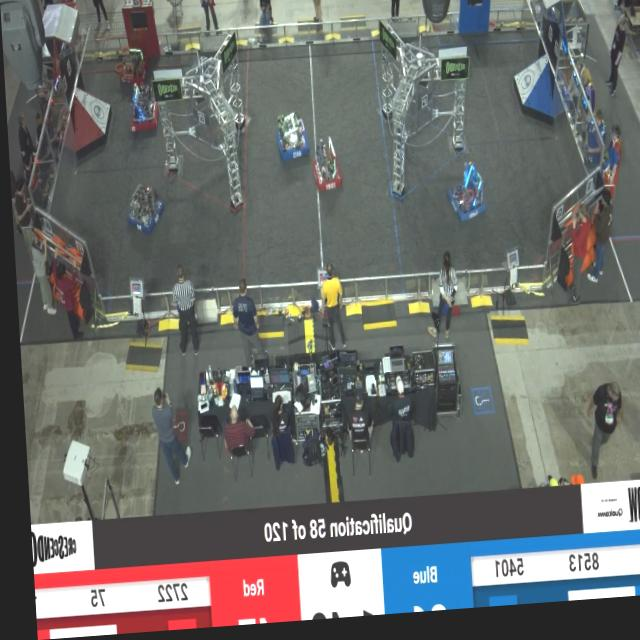Robot: (441, 166, 482, 232), (123, 182, 166, 244), (271, 114, 307, 169), (307, 138, 340, 198), (111, 41, 147, 92), (129, 80, 160, 136)
